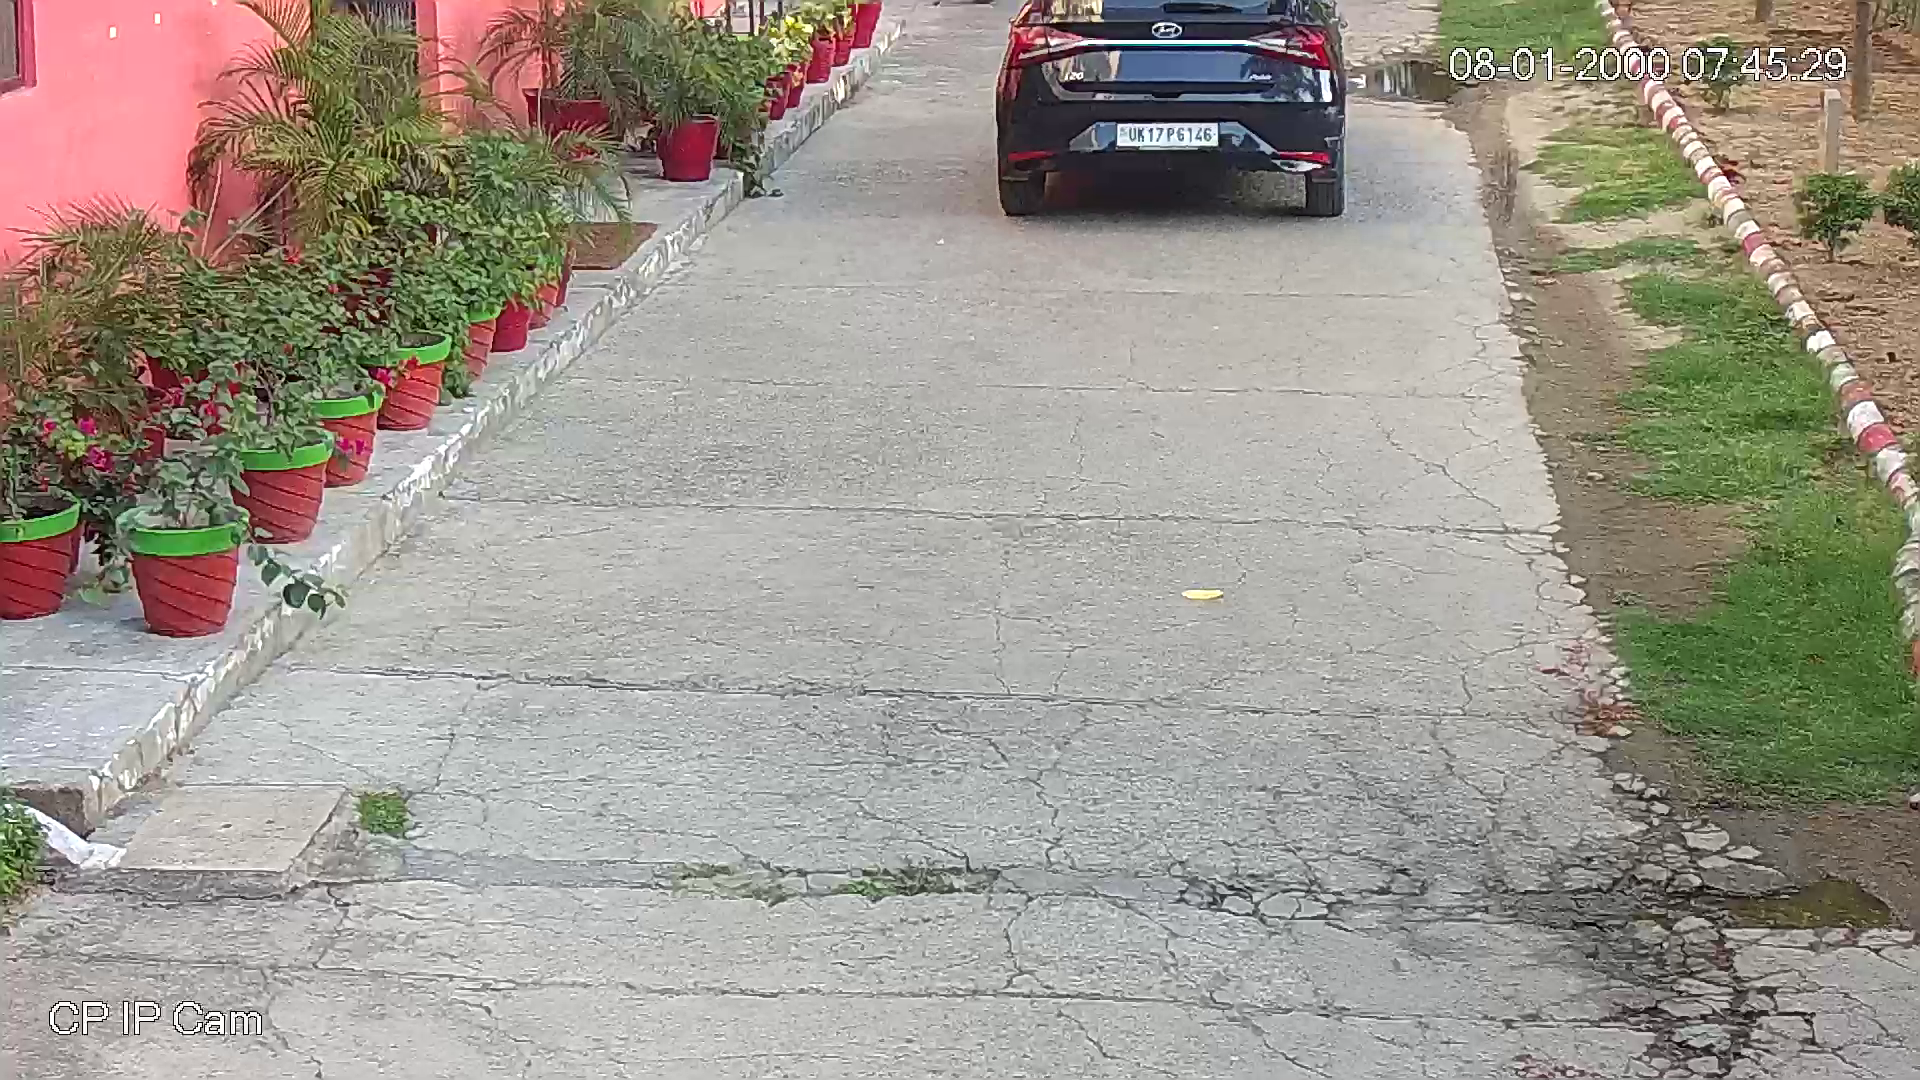plate: (1110, 117, 1225, 150)
